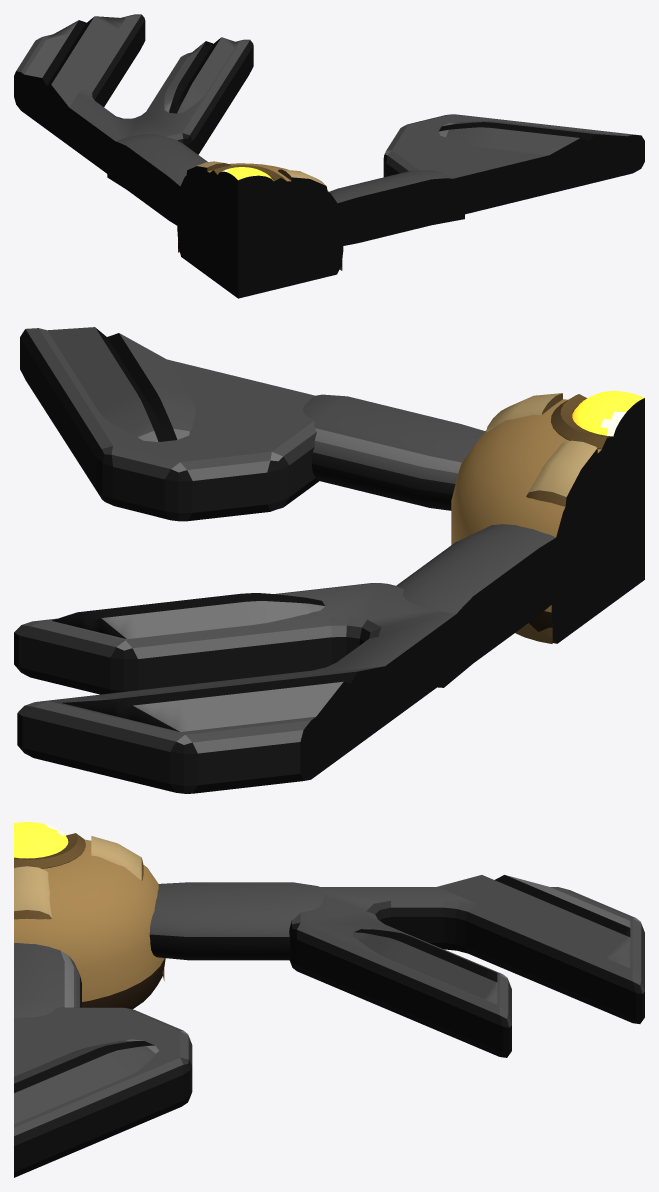
File: spin_claw_83.glb
3 renders of one model, top to bottom at view 1: azimuth 30°, elevation 25°; view 2: azimuth 150°, elevation 25°; view 3: azimuth 270°, elevation 25°, orthographic. The views are drawn at different scales.
Visible parts, largest first — view 1: spin_claw_83_hub_dome, spin_claw_83_arm0_plate, spin_claw_83_arm1_plate, spin_claw_83_arm1_rod, spin_claw_83_arm0_rod, spin_claw_83_arm0_ridge0, spin_claw_83_arm1_ridge0, spin_claw_83_arm0_ridge1, spin_claw_83_hub_lens, spin_claw_83_hub_rib1, spin_claw_83_hub_bezel; view 2: spin_claw_83_arm0_plate, spin_claw_83_arm1_plate, spin_claw_83_hub_dome, spin_claw_83_arm0_rod, spin_claw_83_arm1_rod, spin_claw_83_arm0_ridge0, spin_claw_83_arm1_ridge0, spin_claw_83_arm0_ridge1, spin_claw_83_hub_rib0, spin_claw_83_hub_lens, spin_claw_83_hub_bezel, spin_claw_83_hub_rib1; view 3: spin_claw_83_arm0_plate, spin_claw_83_arm1_plate, spin_claw_83_hub_dome, spin_claw_83_arm0_rod, spin_claw_83_arm0_ridge0, spin_claw_83_arm1_ridge0, spin_claw_83_arm1_rod, spin_claw_83_arm0_ridge1, spin_claw_83_hub_rib1, spin_claw_83_hub_lens, spin_claw_83_hub_rib0, spin_claw_83_hub_bezel.
Part boxes in pixels (box(x1,y1,x2,y2)): spin_claw_83_hub_dome: box(177, 163, 343, 298); spin_claw_83_arm0_plate: box(14, 14, 253, 185); spin_claw_83_arm1_plate: box(383, 114, 644, 221); spin_claw_83_arm1_rod: box(310, 170, 464, 251); spin_claw_83_arm0_rod: box(107, 134, 207, 237); spin_claw_83_arm0_ridge0: box(20, 16, 125, 117); spin_claw_83_arm1_ridge0: box(438, 121, 633, 163); spin_claw_83_arm0_ridge1: box(164, 37, 237, 113); spin_claw_83_hub_lens: box(217, 167, 274, 201); spin_claw_83_hub_rib1: box(278, 169, 342, 270); spin_claw_83_hub_bezel: box(210, 165, 286, 200); spin_claw_83_arm0_plate: box(14, 583, 476, 793); spin_claw_83_arm1_plate: box(20, 328, 319, 521); spin_claw_83_hub_dome: box(451, 399, 644, 643); spin_claw_83_arm0_rod: box(396, 524, 581, 687); spin_claw_83_arm1_rod: box(303, 394, 484, 510); spin_claw_83_arm0_ridge0: box(62, 665, 391, 731); spin_claw_83_arm1_ridge0: box(47, 327, 195, 441); spin_claw_83_arm0_ridge1: box(52, 593, 324, 639); spin_claw_83_hub_rib0: box(515, 440, 597, 643); spin_claw_83_hub_lens: box(572, 390, 644, 455); spin_claw_83_hub_bezel: box(551, 394, 644, 456); spin_claw_83_hub_rib1: box(486, 393, 562, 432); spin_claw_83_arm0_plate: box(288, 887, 644, 1057); spin_claw_83_arm1_plate: box(14, 1007, 192, 1177); spin_claw_83_hub_dome: box(14, 839, 165, 1009); spin_claw_83_arm0_rod: box(149, 882, 324, 960); spin_claw_83_arm0_ridge0: box(437, 875, 630, 968); spin_claw_83_arm1_ridge0: box(14, 1039, 158, 1124); spin_claw_83_arm1_rod: box(14, 943, 81, 1017); spin_claw_83_arm0_ridge1: box(353, 928, 497, 1004); spin_claw_83_hub_rib1: box(14, 866, 51, 919); spin_claw_83_hub_lens: box(14, 822, 68, 858); spin_claw_83_hub_rib0: box(91, 836, 164, 980); spin_claw_83_hub_bezel: box(14, 833, 85, 868).
Bounding box in the file's own units: 22.08 × 6.22 × 23.7.
